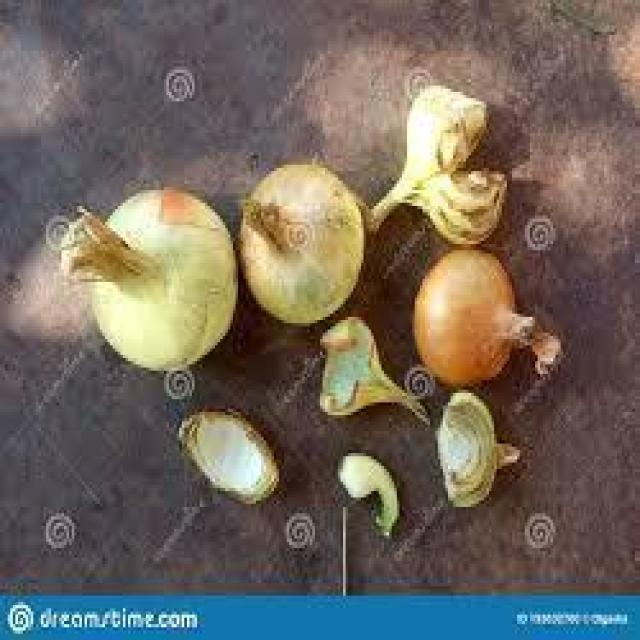Onion: (60, 190, 237, 374), (366, 79, 504, 244), (412, 247, 566, 390), (237, 163, 362, 322), (292, 311, 430, 437), (176, 384, 294, 501), (438, 393, 527, 516), (330, 453, 410, 551)
